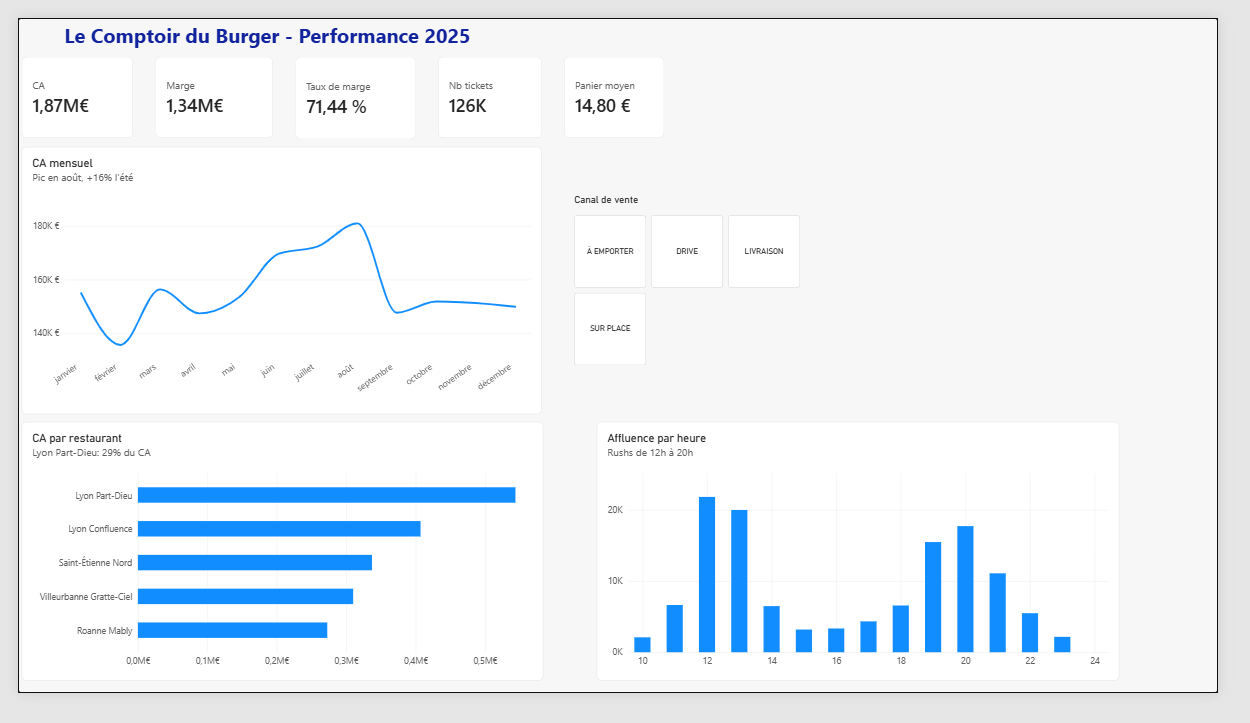

What the dashboard file says about the page in this screenshot:
{"tool":"powerbi","page":{"name":"Page 1","canvas":[1920,1080],"ordinal":0},"visuals":[{"type":"cardVisual","fields":{"Data":["Ventes.CA"]},"box":[5,62,178.3,130],"z":0},{"type":"cardVisual","fields":{"Data":["Ventes.Marge"]},"box":[219.4,62,188.3,130],"z":1000},{"type":"cardVisual","fields":{"Data":["Ventes.Nb tickets"]},"box":[671.9,62,166,130],"z":2000},{"type":"cardVisual","fields":{"Data":["Ventes.Panier moyen"]},"box":[874,62,160,130],"z":3000},{"type":"clusteredBarChart","title":"CA par restaurant","fields":{"Category":["Restaurants.NomRestaurant"],"Y":["Ventes.CA"]},"box":[6,646,834,414],"z":4000},{"type":"advancedSlicerVisual","title":"Canal de vente","fields":{"Values":["Ventes.Canal"]},"box":[890,282.5,362,274],"z":5000},{"type":"clusteredColumnChart","title":"Affluence par heure","fields":{"Category":["Ventes.Heure de vente"],"Y":["Ventes.Nb tickets"]},"box":[926,646,836,414],"z":6000},{"type":"lineChart","title":"CA mensuel","fields":{"Category":["Ventes.Date.Variation.Hiérarchie de dates.Mois"],"Y":["Ventes.CA"]},"box":[6,206,832,428],"z":7000},{"type":"textbox","box":[64,6,670,56],"z":8000},{"type":"cardVisual","fields":{"Data":["Ventes.Taux de marge"]},"box":[443.8,62,192,132],"z":9000}]}

Visuals, with their boxes in screenshot pixels (x1, y1, x2, y2), scaled from the page's 1920x1080 canvas onto the 1250x723 screenshot:
cardVisual - Ventes.CA: [3,42,119,129]
cardVisual - Ventes.Marge: [143,42,265,129]
cardVisual - Ventes.Nb tickets: [437,42,546,129]
cardVisual - Ventes.Panier moyen: [569,42,673,129]
"CA par restaurant" clusteredBarChart: [4,432,547,710]
"Canal de vente" advancedSlicerVisual: [579,189,815,373]
"Affluence par heure" clusteredColumnChart: [603,432,1147,710]
"CA mensuel" lineChart: [4,138,546,424]
textbox: [42,4,478,42]
cardVisual - Ventes.Taux de marge: [289,42,414,130]
